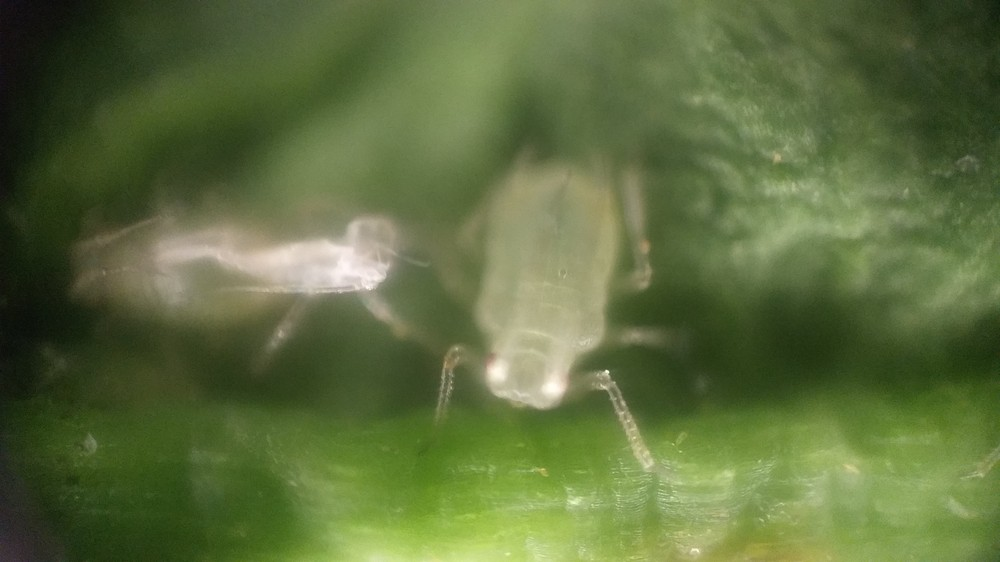Pulgon: (413, 127, 734, 484)
